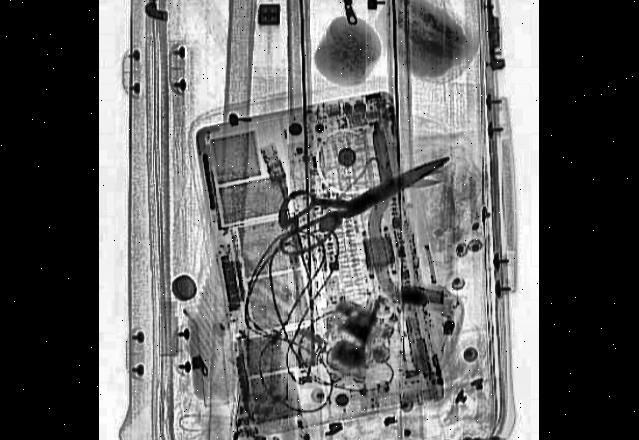Scissors: (272, 125, 453, 262)
